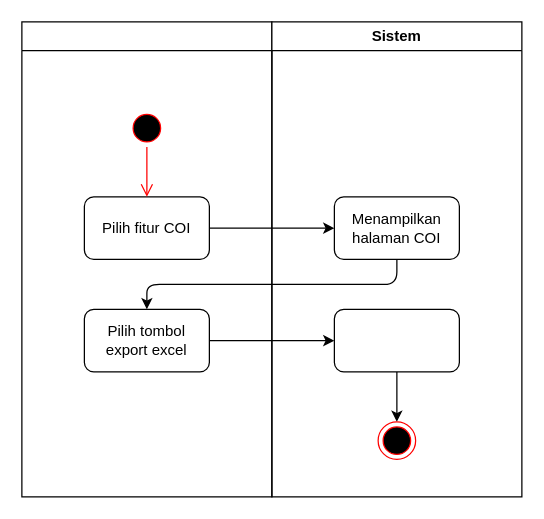
This 544x519 diagram has some shape labels left out. The shapes that lost their labels are listed below. From the top down, each one's box as (x1, y1, x2, y2) in pixels, then its label:
(21, 21, 272, 497): User
(333, 308, 459, 372): Data berhasil terunduh
